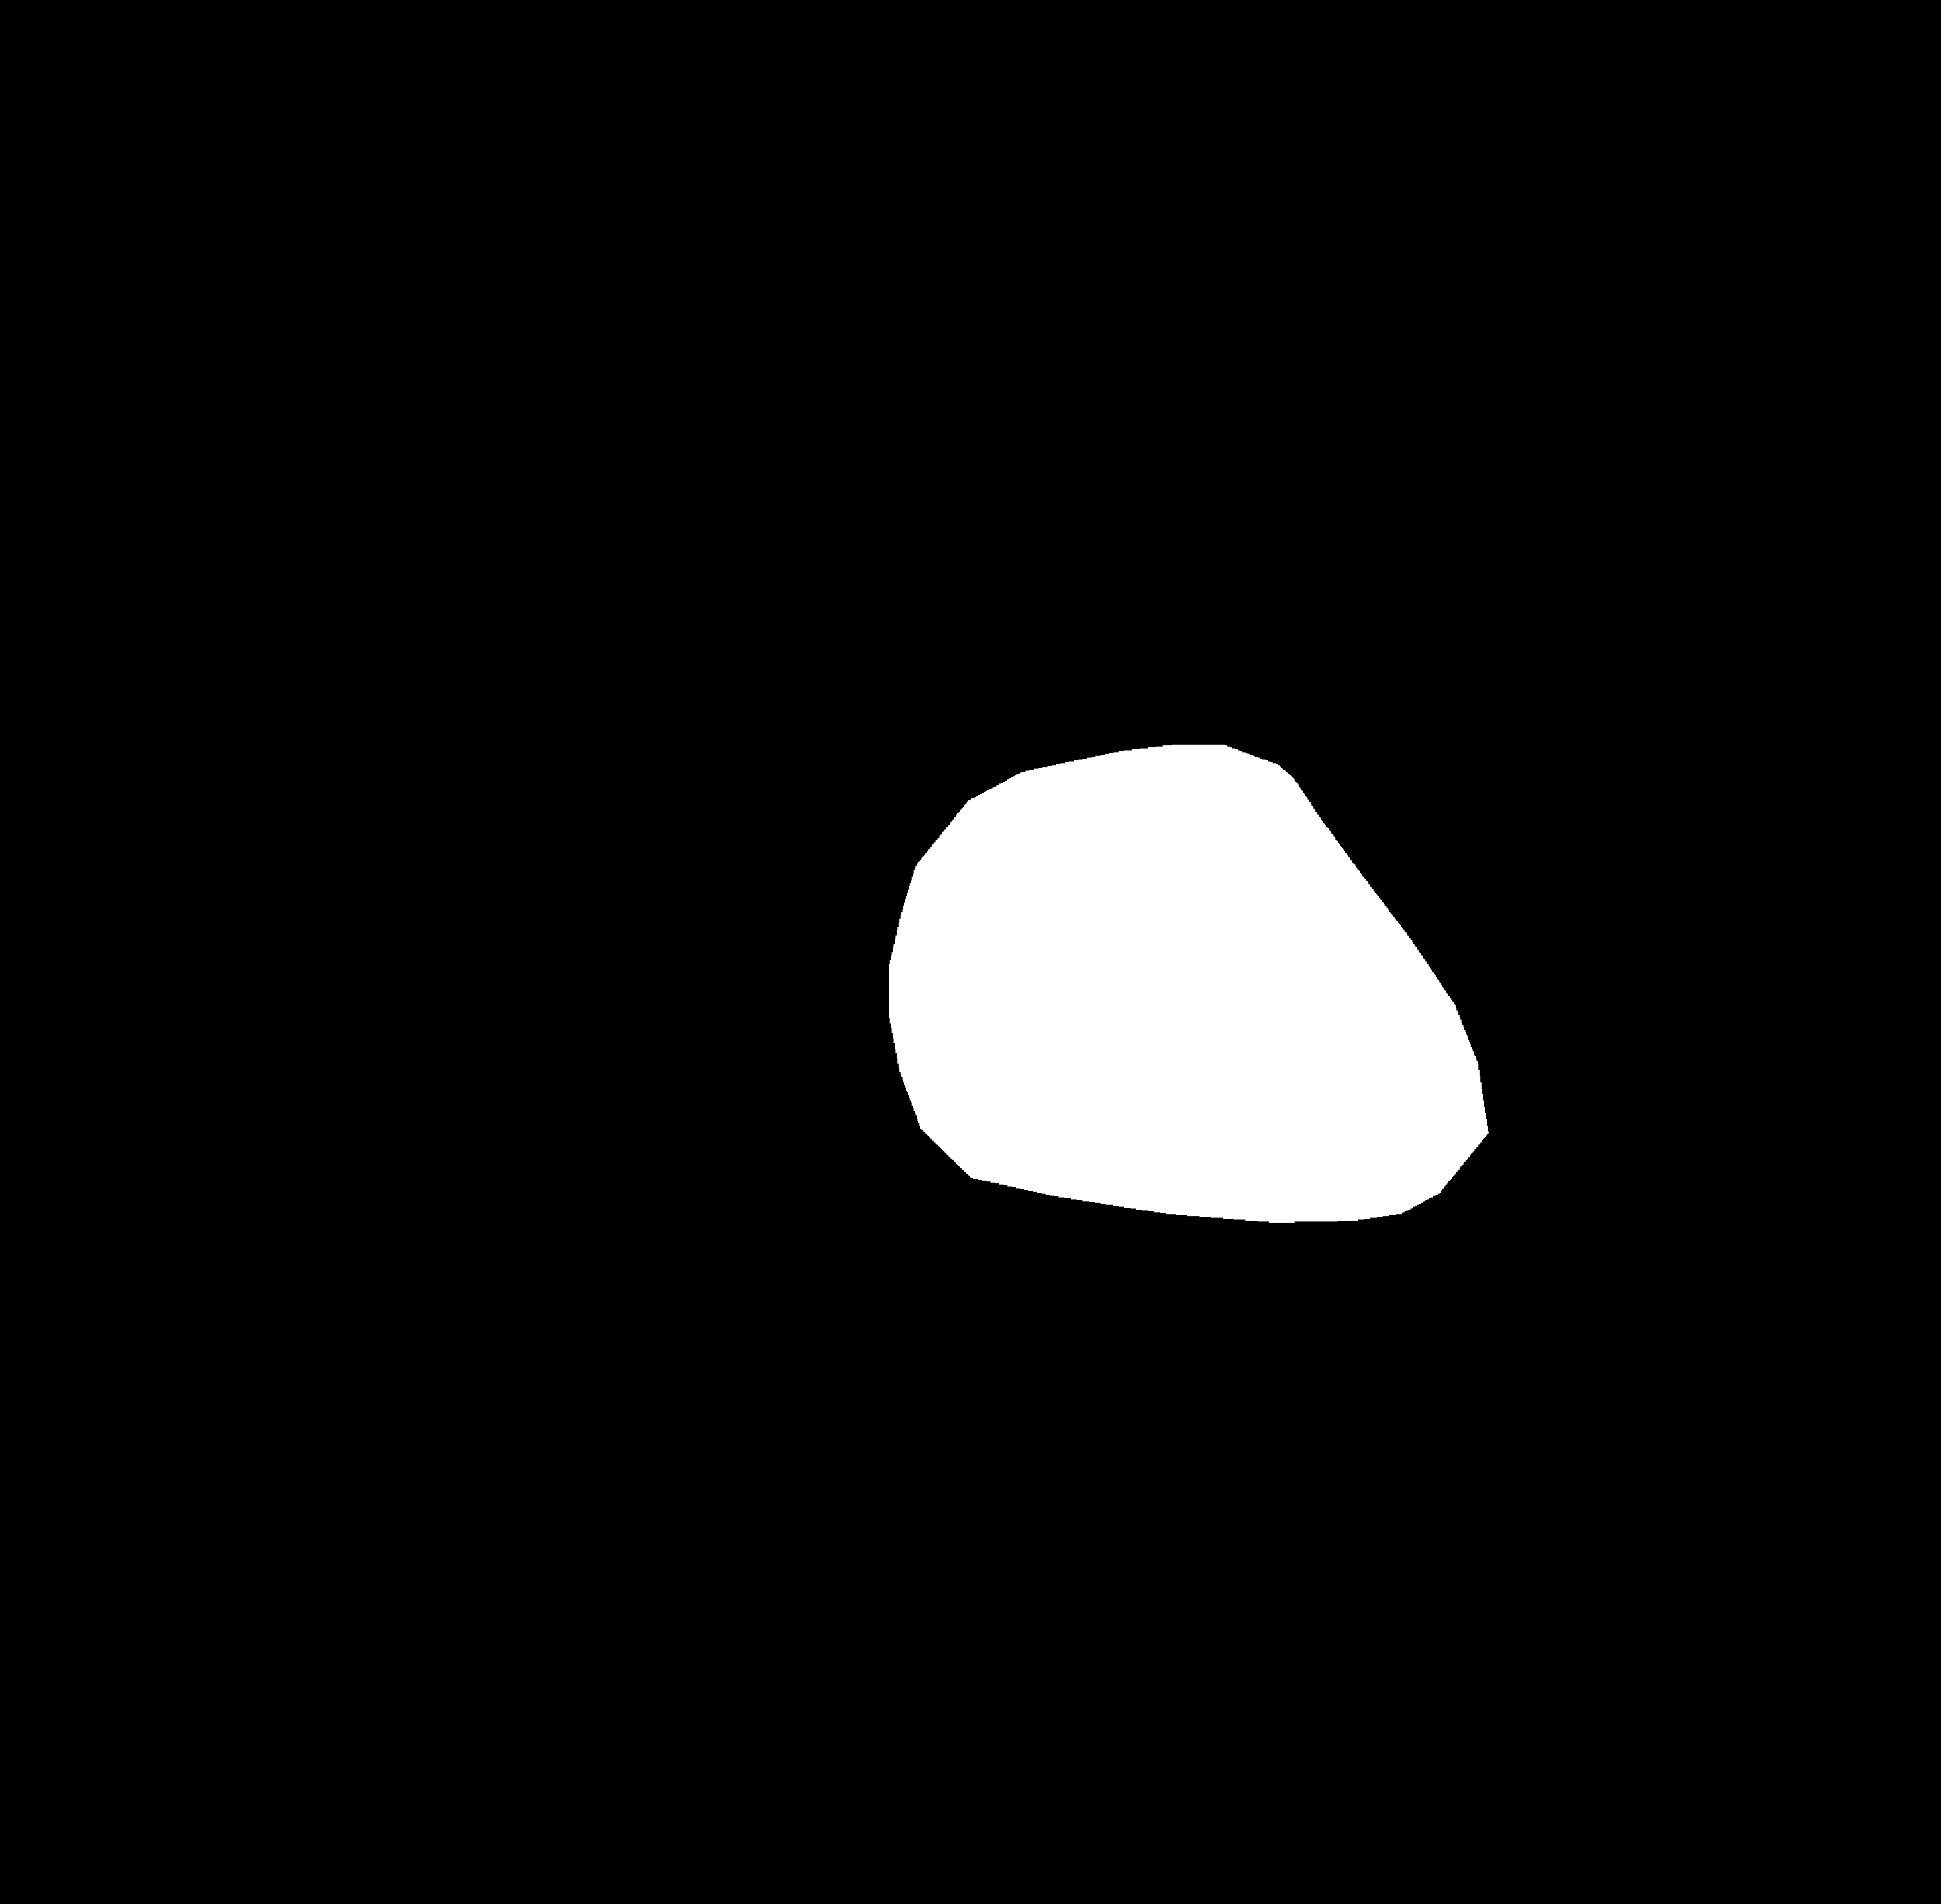heart: (886, 823, 1512, 1217)
left_lung: (459, 185, 998, 1442)
right_lung: (1132, 183, 1747, 1449)
